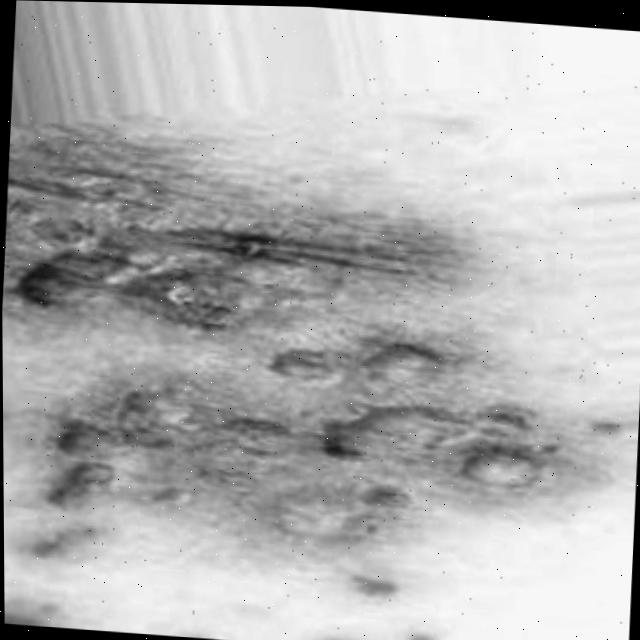Shingles: (1, 133, 589, 604)
